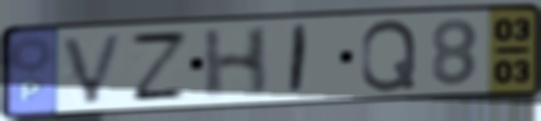8: (429, 17, 482, 89)
H: (200, 23, 273, 102)
I: (285, 22, 313, 99)
Q: (358, 17, 420, 94)
V: (58, 30, 129, 107)
Z: (127, 30, 193, 103)
